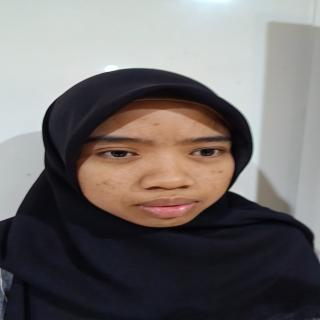Takut: (67, 90, 257, 239)
